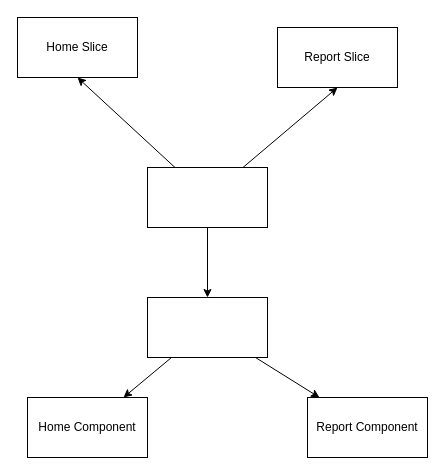
Some shapes in this 445 by 475 pixel diagram are drawn without their labels. The shapes that lost their labels are listed below. From the top down, each one's box as (x1, y1, x2, y2) in pixels, then its label:
(146, 166, 268, 228): Store
(146, 296, 268, 358): Host App
